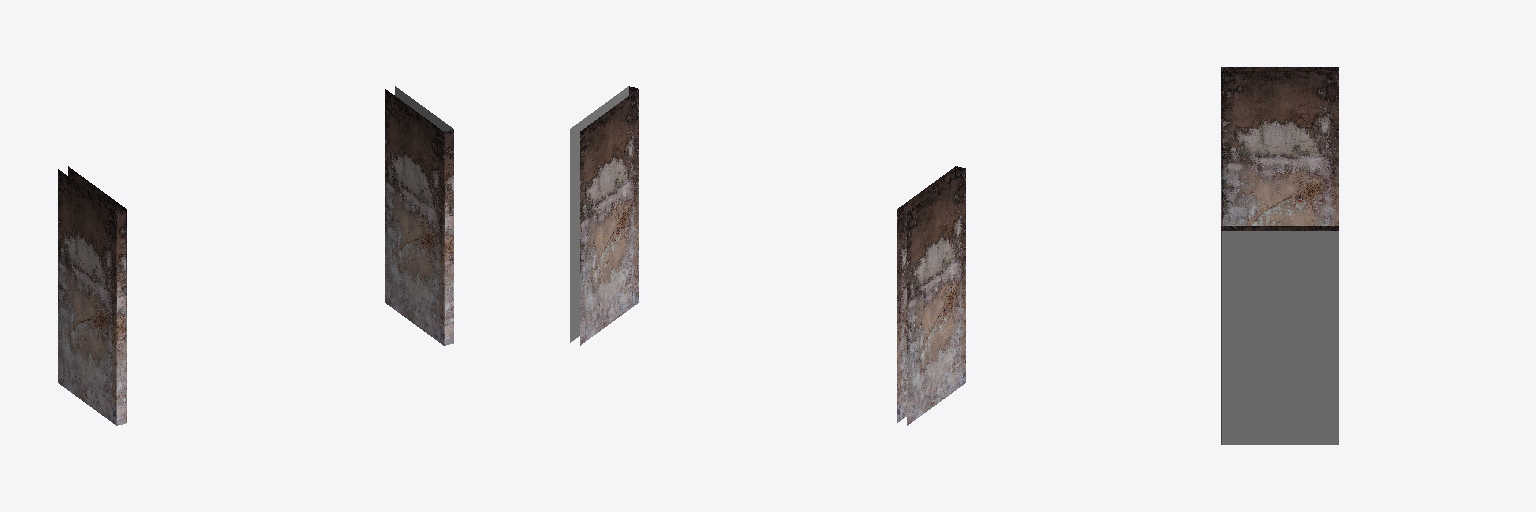
3 views of the same model, side by side, from view 1: azimuth 30°, elevation 25°; view 2: azimuth 150°, elevation 25°; view 3: azimuth 270°, elevation 25° (orthographic).
Parts seen in each view (by area): view 1: ElevatorRightDoors; view 2: ElevatorRightDoors; view 3: ElevatorRightDoors.
Boxes of the visible parts, <box> form: ElevatorRightDoors: <box>58,86,453,425</box>; ElevatorRightDoors: <box>570,86,965,425</box>; ElevatorRightDoors: <box>1221,67,1338,444</box>.
Size of the model in its own units: 3.3 by 2 by 1.
2 materials, 1 textured.